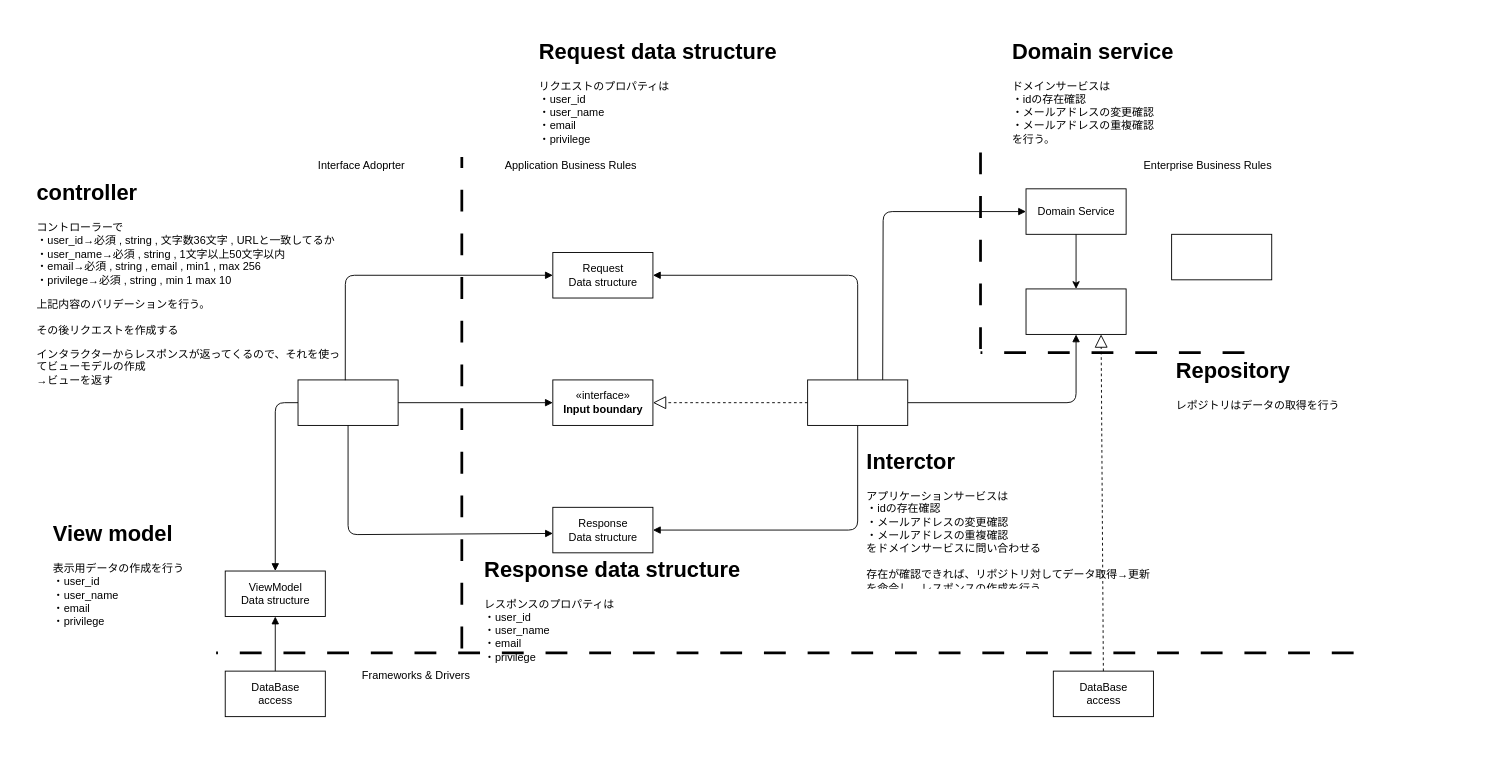
Some shapes in this 1487 by 759 pixel diagram are drawn without their labels. Each missing label, with the box of its shape:
Controller: (297, 379, 398, 425)
Entities: (1171, 233, 1272, 280)
«interface» Create UseCase: (807, 379, 908, 425)
«interface» Repository: (1025, 288, 1126, 334)
